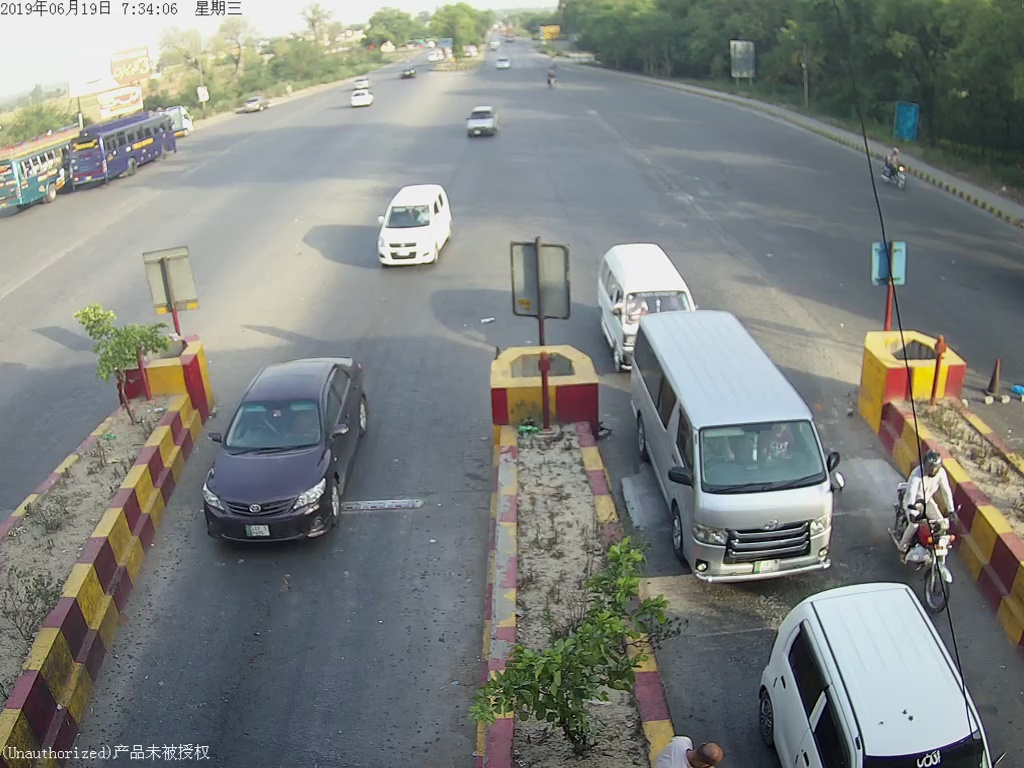Cat-1: (212, 351, 368, 549), (368, 174, 454, 278)
Cat-2: (619, 303, 853, 602)
